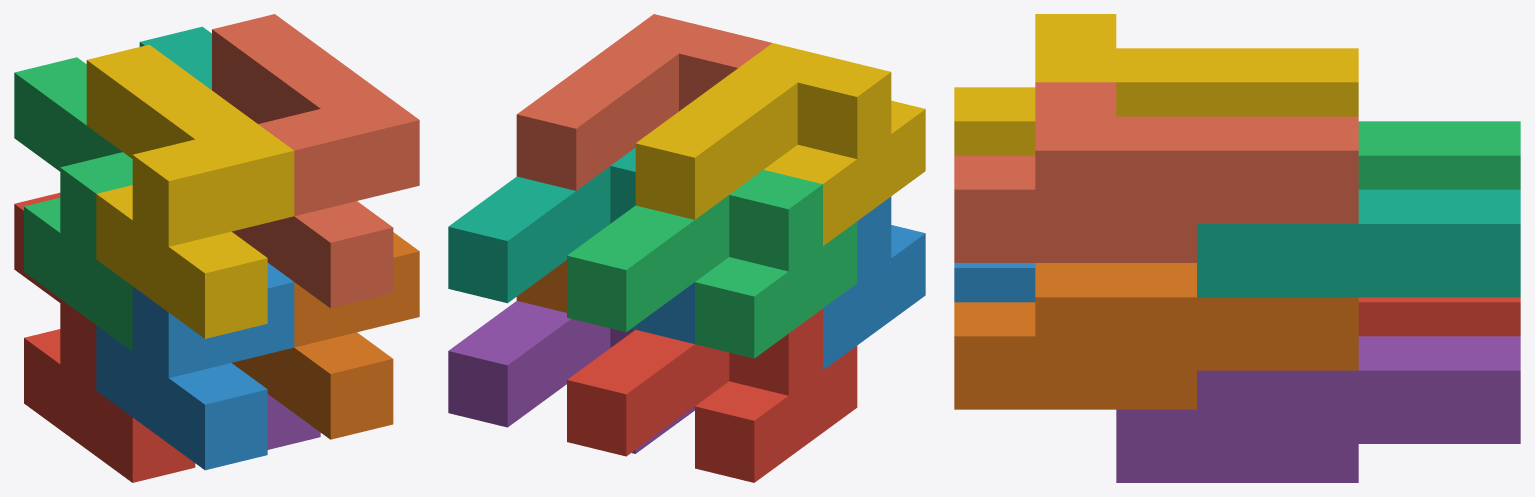
File: tiling.obj
3 renders of one model, left to right at view 1: azimuth 30°, elevation 25°; view 2: azimuth 150°, elevation 25°; view 3: azimuth 270°, elevation 25°, orthographic. The views are drawn at different scales.
Parts seen in each view (by area): view 1: copy_1_domain_4, copy_1_domain_8, copy_1_domain_2, copy_1_domain_3, copy_1_domain_6, copy_1_domain_1, copy_1_domain_7, copy_1_domain_5; view 2: copy_1_domain_4, copy_1_domain_3, copy_1_domain_1, copy_1_domain_8, copy_1_domain_7, copy_1_domain_5, copy_1_domain_2, copy_1_domain_6; view 3: copy_1_domain_8, copy_1_domain_6, copy_1_domain_5, copy_1_domain_7, copy_1_domain_4, copy_1_domain_3, copy_1_domain_1, copy_1_domain_2.
Part boxes in pixels (x1,y1,x2,y2): copy_1_domain_4: [86, 44, 294, 338]; copy_1_domain_8: [212, 14, 419, 308]; copy_1_domain_2: [96, 263, 294, 470]; copy_1_domain_3: [14, 57, 132, 351]; copy_1_domain_6: [232, 232, 419, 439]; copy_1_domain_1: [14, 192, 195, 482]; copy_1_domain_7: [139, 26, 211, 89]; copy_1_domain_5: [267, 394, 320, 449]; copy_1_domain_4: [635, 43, 925, 245]; copy_1_domain_3: [567, 170, 857, 358]; copy_1_domain_1: [567, 308, 857, 482]; copy_1_domain_8: [516, 14, 771, 190]; copy_1_domain_7: [448, 148, 635, 329]; copy_1_domain_5: [448, 301, 694, 453]; copy_1_domain_2: [635, 196, 925, 370]; copy_1_domain_6: [516, 260, 566, 312]; copy_1_domain_8: [954, 82, 1358, 262]; copy_1_domain_6: [954, 263, 1358, 409]; copy_1_domain_5: [1116, 336, 1520, 482]; copy_1_domain_7: [1197, 189, 1520, 297]; copy_1_domain_4: [954, 14, 1358, 155]; copy_1_domain_3: [1358, 121, 1520, 189]; copy_1_domain_1: [1358, 297, 1520, 336]; copy_1_domain_2: [954, 263, 1035, 302].
Size of the model in its own units: 4 by 5 by 7.
